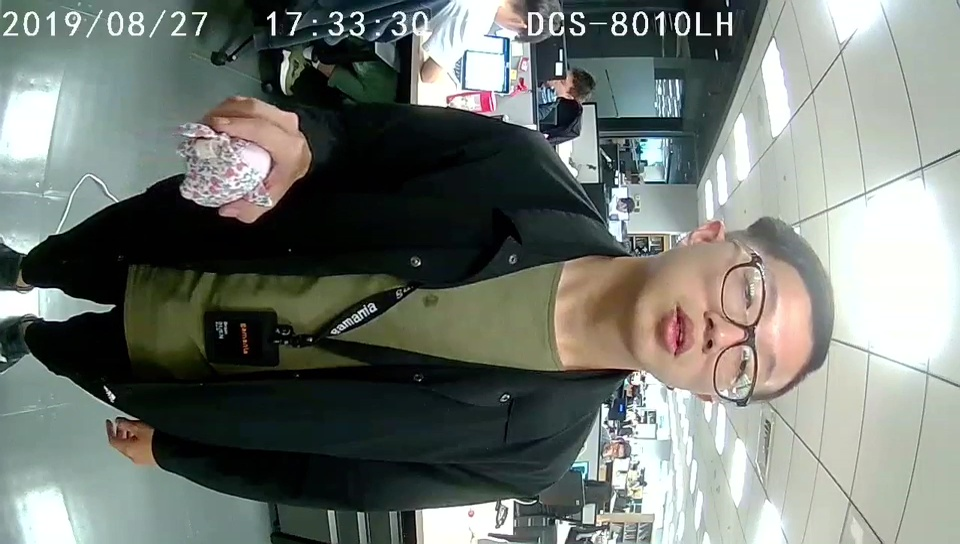pig: (177, 121, 273, 211)
